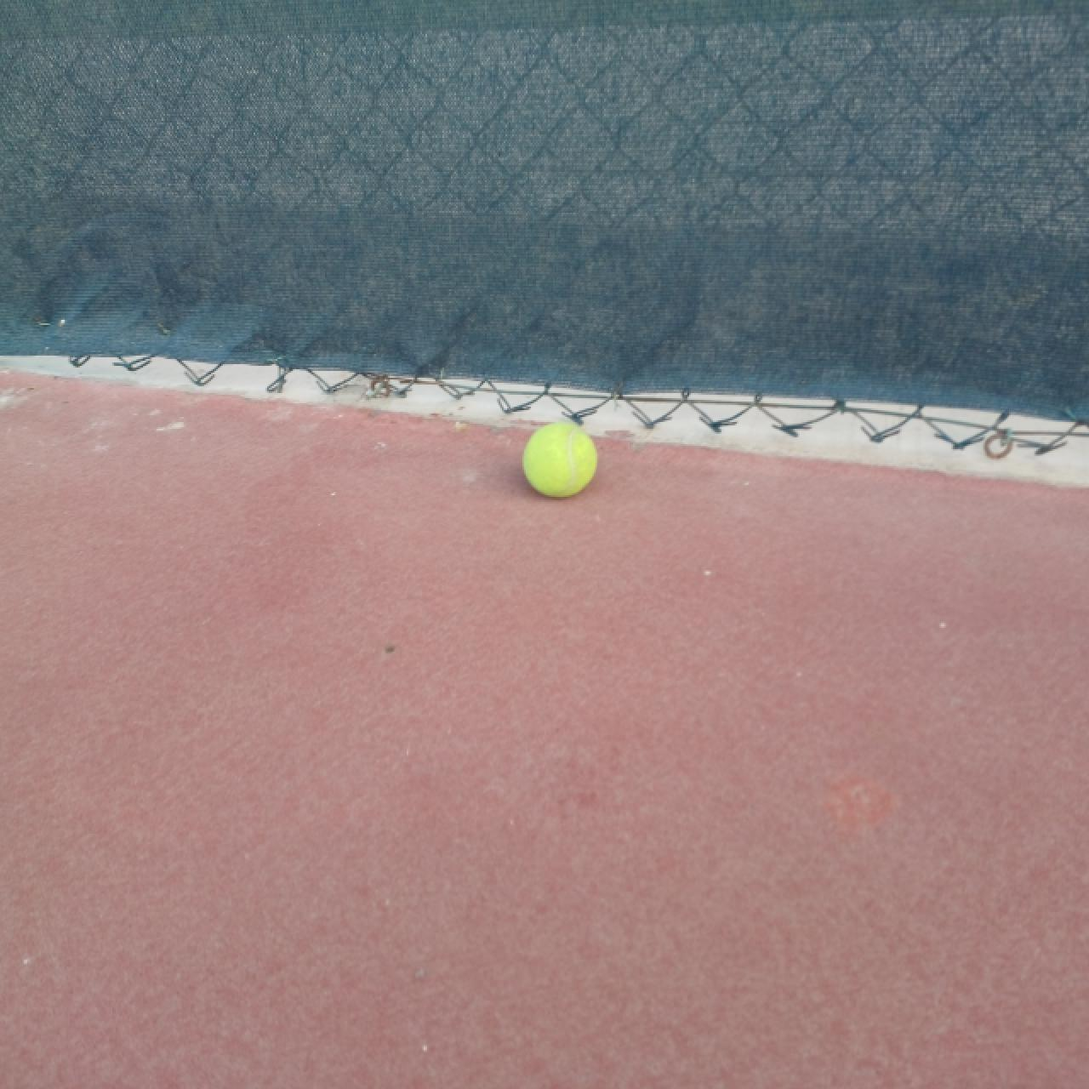tennis-ball: (520, 420, 597, 497)
